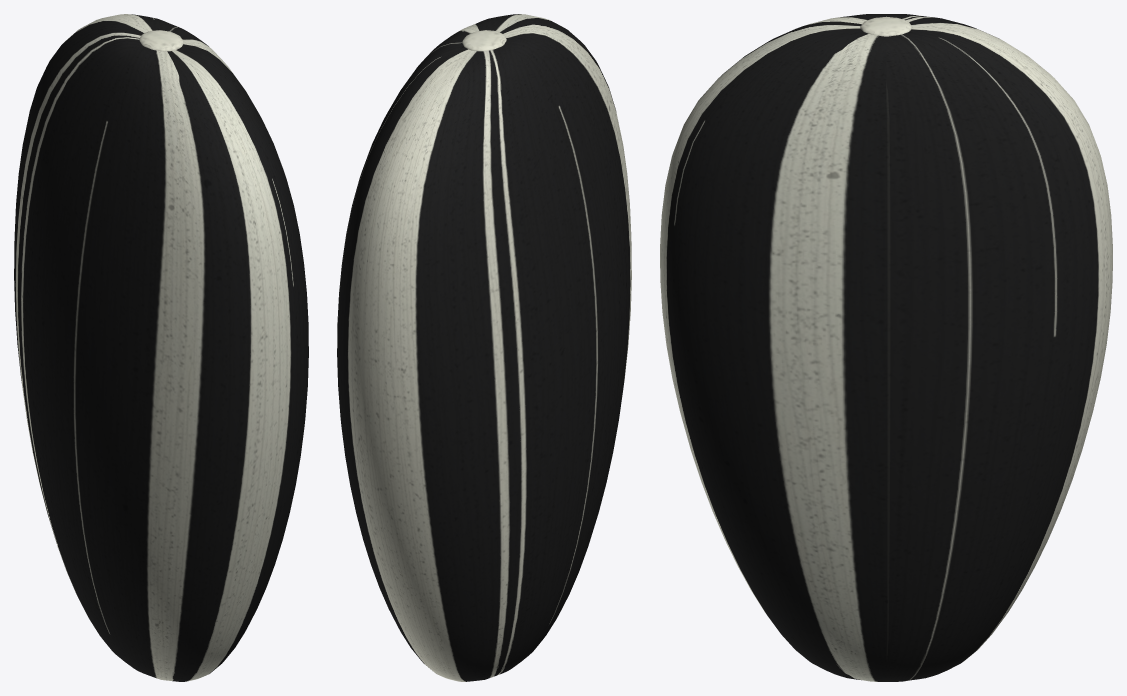
The model's file is Sunflower_Seed.fbx.
3 renders of one model, left to right at view 1: azimuth 30°, elevation 25°; view 2: azimuth 150°, elevation 25°; view 3: azimuth 270°, elevation 25°, orthographic. The views are drawn at different scales.
Visible parts, largest first — view 1: Object_2; view 2: Object_2; view 3: Object_2.
Part boxes in pixels (x1,y1,x2,y2): Object_2: (14,14,308,681); Object_2: (337,14,631,681); Object_2: (660,14,1112,681).
Size of the model in its own units: 15.92 by 47.81 by 30.
Materials: 1 (1 with a texture image).
